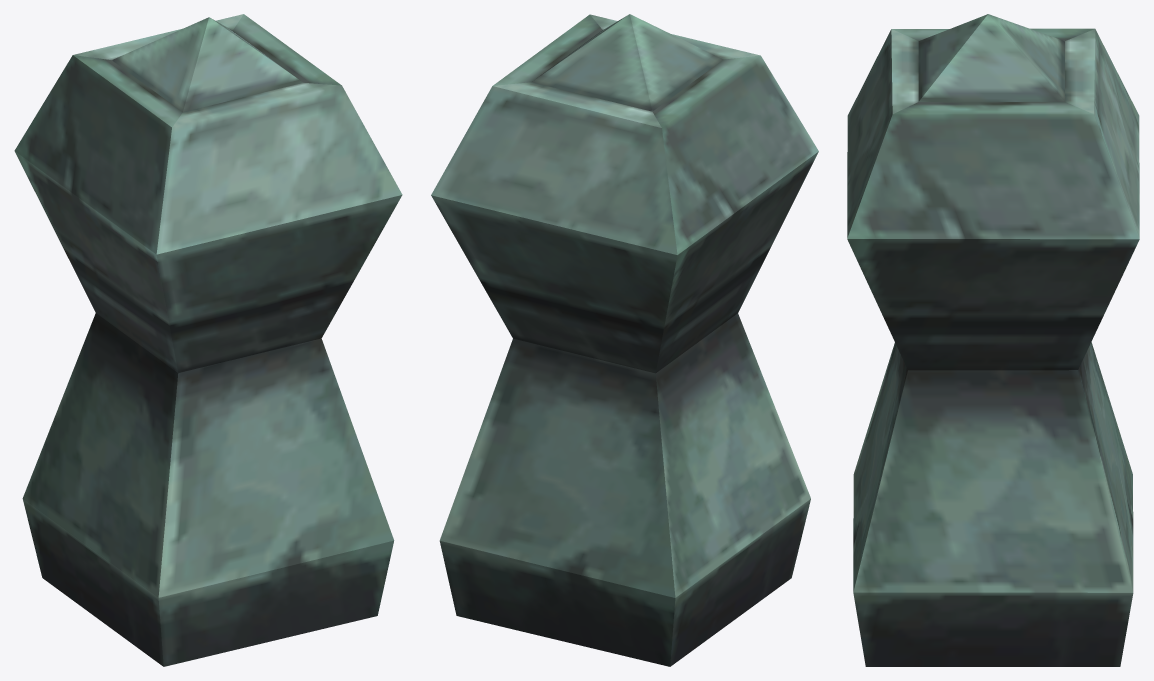
The model's file is crypt_railingpost_01.fbx.
3 views of the same model, side by side, from view 1: azimuth 30°, elevation 25°; view 2: azimuth 150°, elevation 25°; view 3: azimuth 270°, elevation 25° (orthographic). The views are drawn at different scales.
Visible parts, largest first — view 1: miscellaneous; view 2: miscellaneous; view 3: miscellaneous.
Boxes of the visible parts, box(x1,y1,x2,y2) form: miscellaneous: box(14, 14, 402, 666); miscellaneous: box(431, 14, 818, 666); miscellaneous: box(847, 14, 1139, 666).
Bounding box in the file's own units: 0.8877 × 2 × 0.888.
